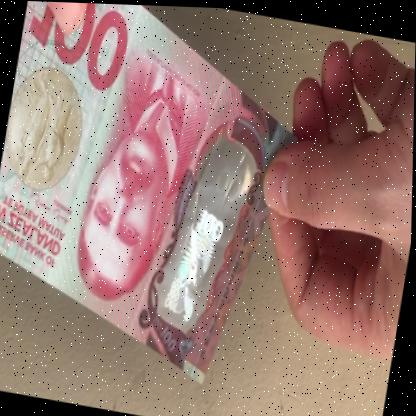100F: (161, 145, 247, 332)
